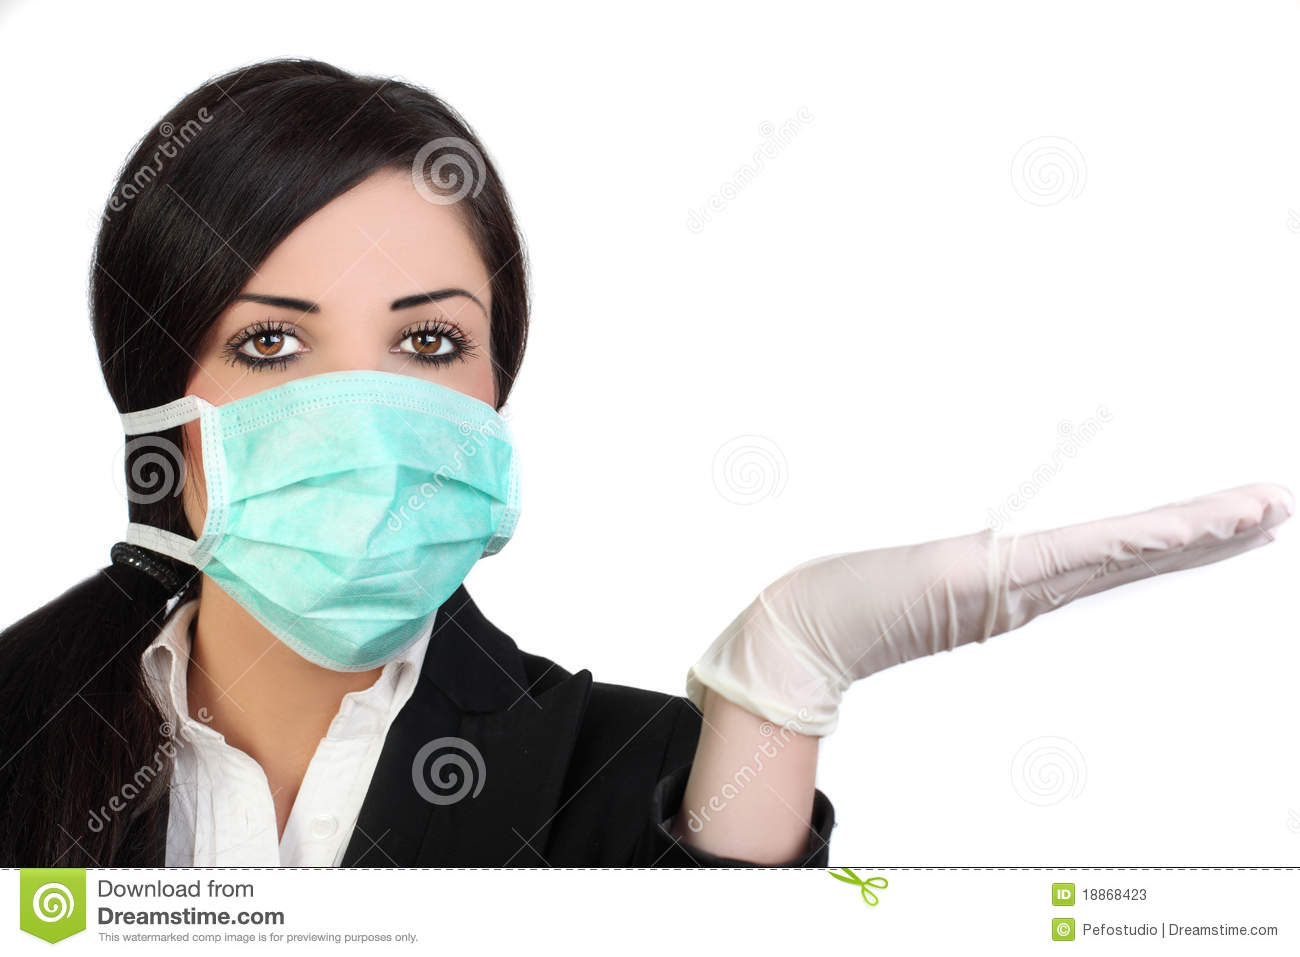mask: (202, 366, 519, 676)
